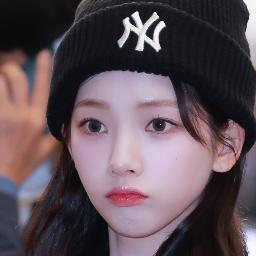face: (84, 79, 198, 227)
